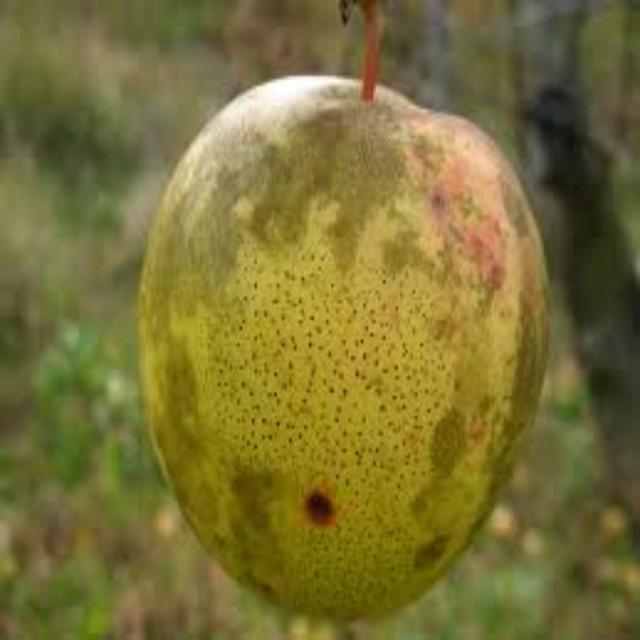Rotten Apple: (123, 44, 569, 640)
